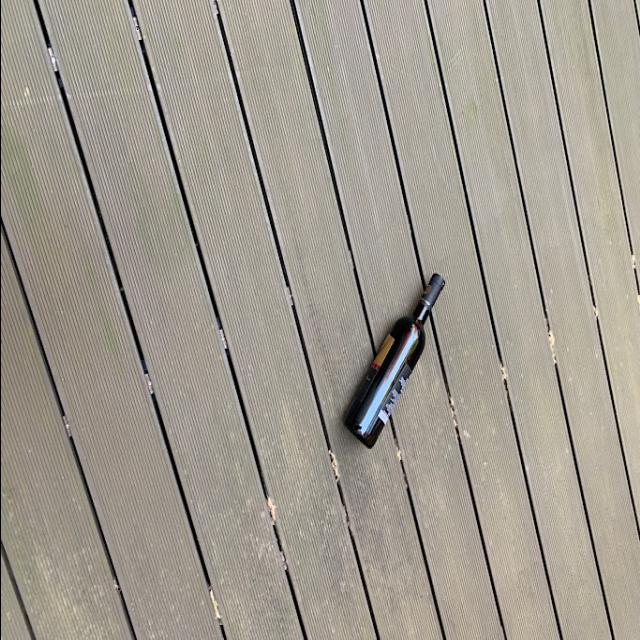Glass Bottle: (336, 271, 446, 455)
